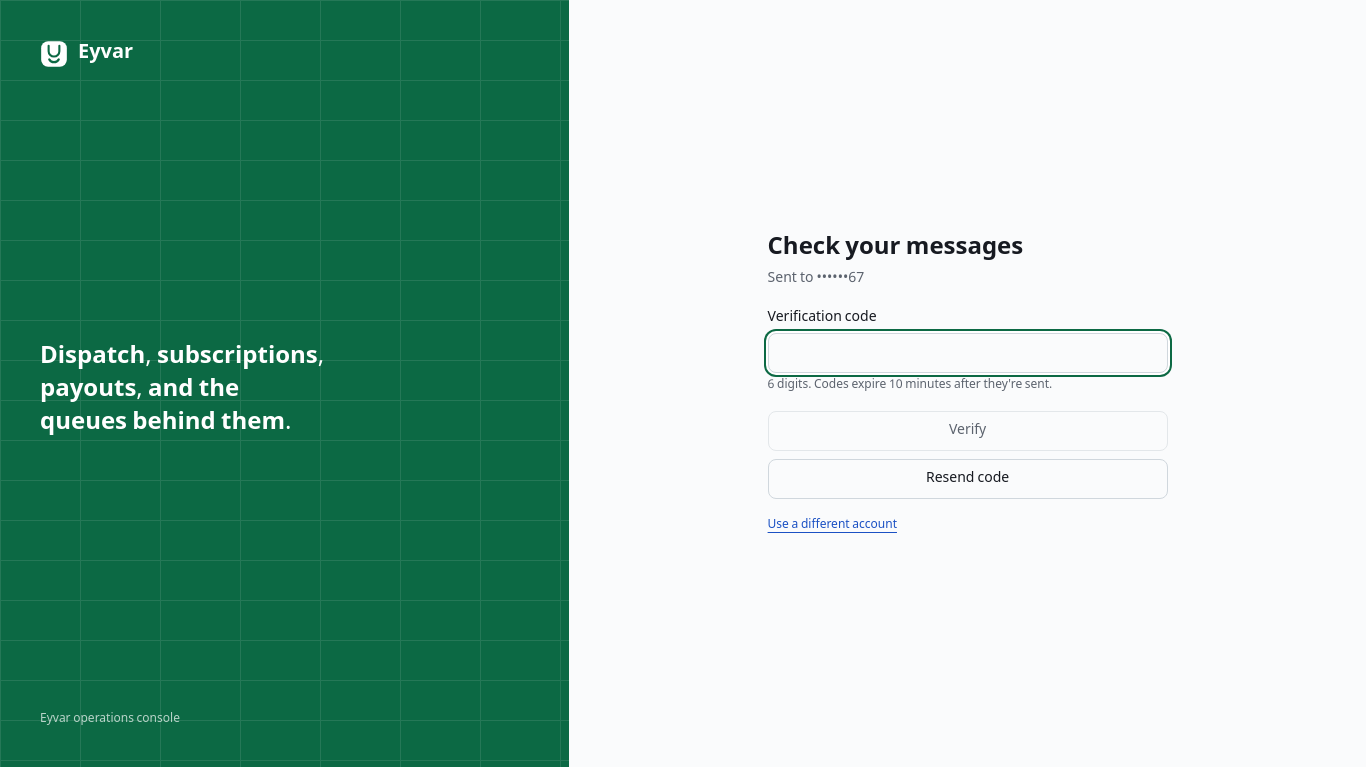
Test case: AC-518 — "accepts exactly 6 numeric characters and rejects letters and symbols at input time" › never lets a non-digit land
Type "a1b2c3!4" into the field labelled "Verification code". click: (968,353)
box: [768, 333, 1168, 373]
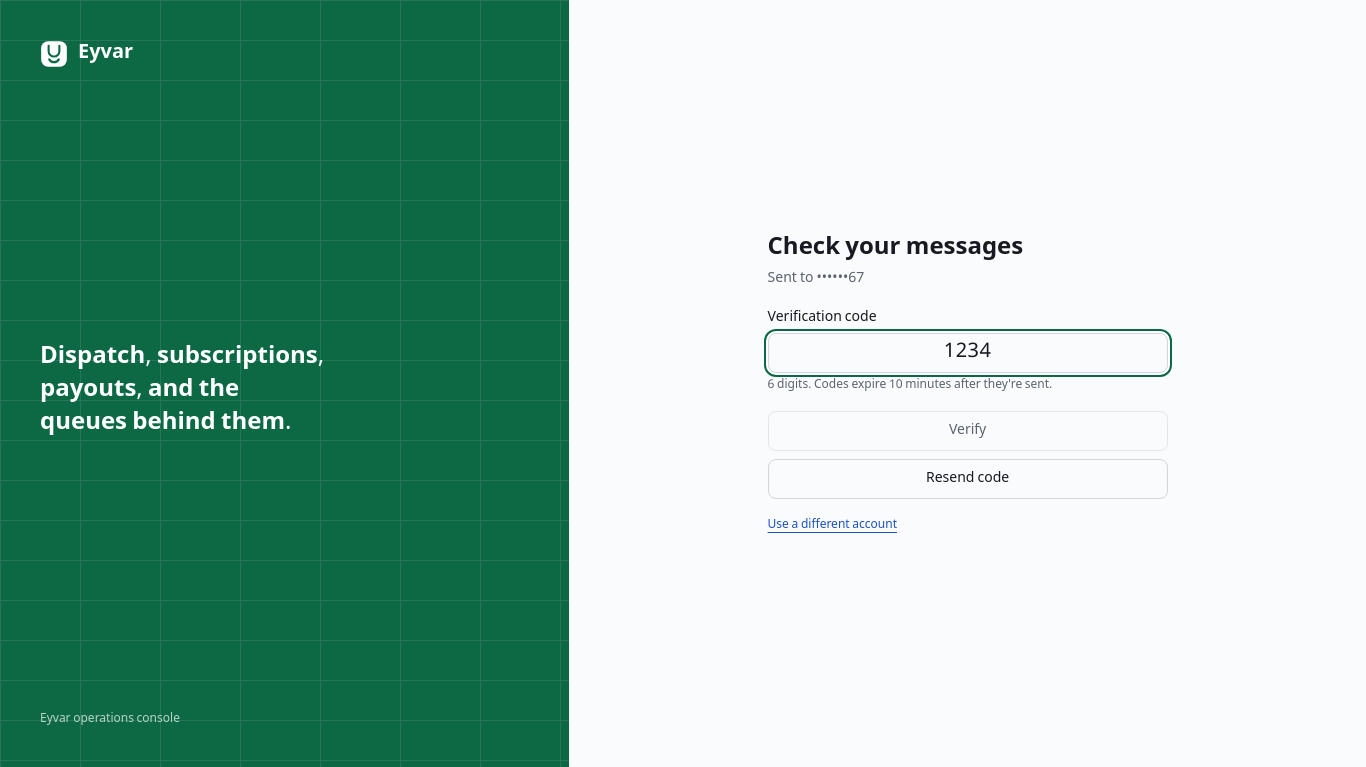
Now the field labelled "Verification code" holds "1234", box [768, 333, 1168, 373]
